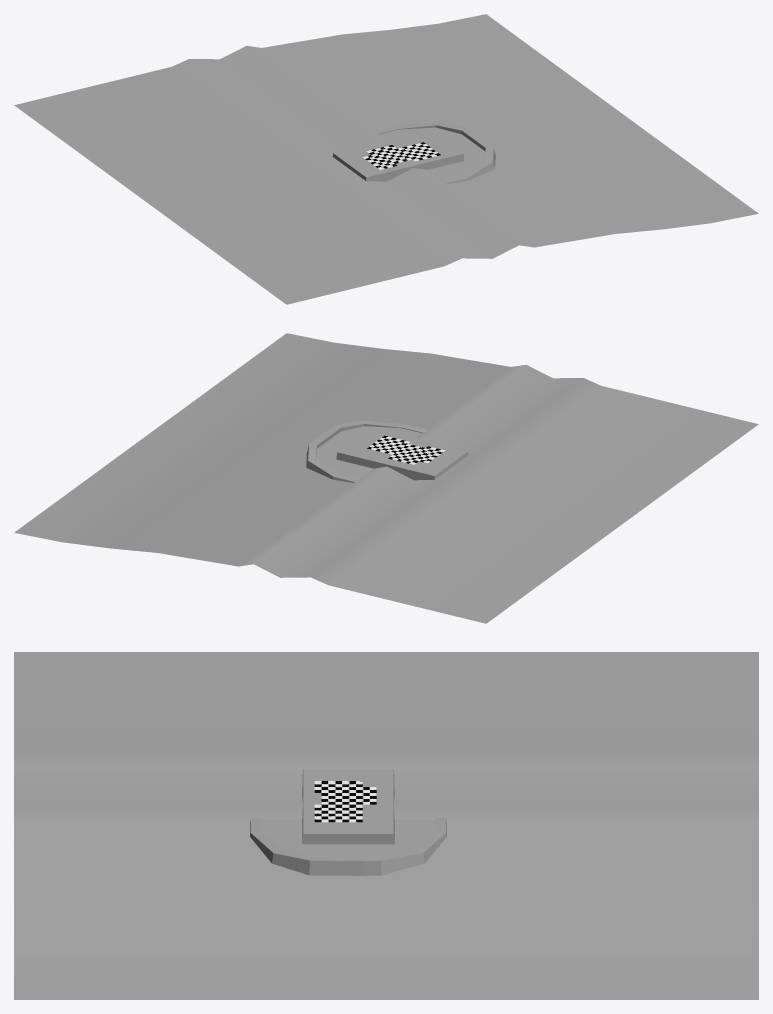
Rendered from N3_Sala2.fbx.
3 views of the same model, one above another, from view 1: azimuth 30°, elevation 25°; view 2: azimuth 150°, elevation 25°; view 3: azimuth 270°, elevation 25° (orthographic). The views are drawn at different scales.
Parts seen in each view (by area): view 1: Cesped, Escenario, Agua; view 2: Cesped, Escenario, Agua; view 3: Cesped, Escenario, Agua.
Part boxes in pixels (x1,y1,x2,y2): Cesped: [14, 14, 758, 304]; Escenario: [332, 122, 496, 184]; Agua: [379, 127, 485, 180]; Cesped: [14, 333, 758, 623]; Escenario: [306, 420, 467, 482]; Agua: [316, 426, 421, 478]; Cesped: [14, 652, 758, 999]; Escenario: [250, 769, 446, 875]; Agua: [262, 819, 434, 855].
Bounding box in the file's own units: 267 × 21.33 × 267.
